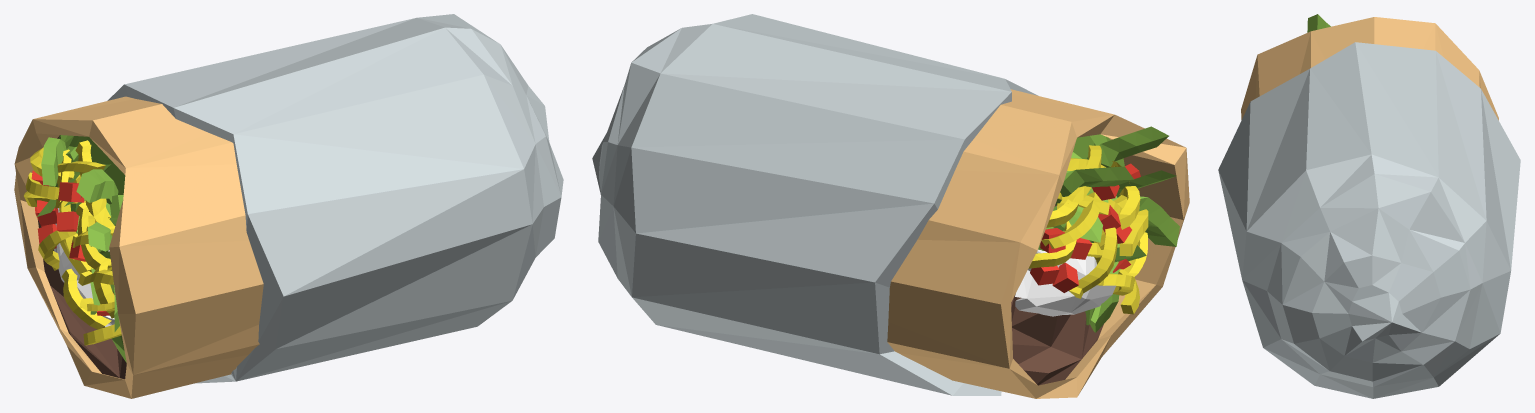
The model's file is Burrito.glb.
3 renders of one model, left to right at view 1: azimuth 30°, elevation 25°; view 2: azimuth 150°, elevation 25°; view 3: azimuth 270°, elevation 25°, orthographic. The views are drawn at different scales.
Parts seen in each view (by area): view 1: Node; view 2: Node; view 3: Node.
Boxes of the visible parts, x1=… form: Node: x1=14, y1=14, x2=563, y2=398; Node: x1=592, y1=14, x2=1189, y2=398; Node: x1=1218, y1=14, x2=1520, y2=398.
Bounding box in the file's own units: 0.7819 × 0.4246 × 0.4736.
